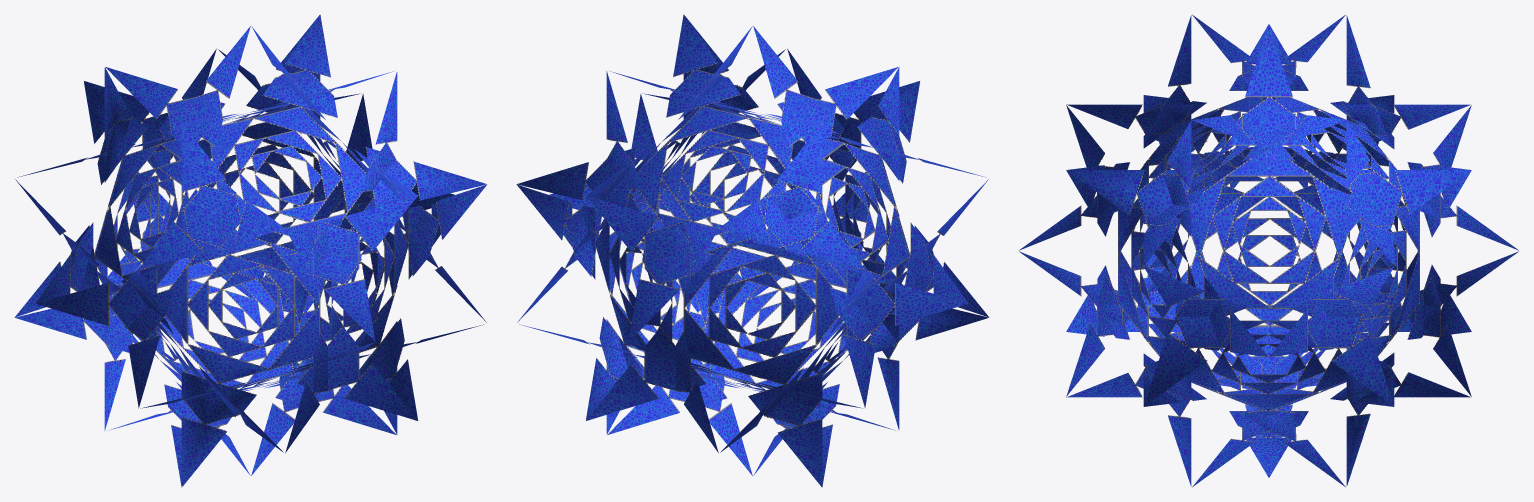
The model's file is GreatIcosidodecahedron14.gltf.
3 views of the same model, side by side, from view 1: azimuth 30°, elevation 25°; view 2: azimuth 150°, elevation 25°; view 3: azimuth 270°, elevation 25° (orthographic).
Visible parts, largest first — view 1: GreatIcosidodecahedron14; view 2: GreatIcosidodecahedron14; view 3: GreatIcosidodecahedron14.
Part boxes in pixels (<box>): GreatIcosidodecahedron14: <box>14,14,487,487</box>; GreatIcosidodecahedron14: <box>516,14,989,487</box>; GreatIcosidodecahedron14: <box>1019,14,1518,487</box>.
Size of the model in its own units: 1.24 by 1.24 by 1.24.
1 material, 1 textured.
